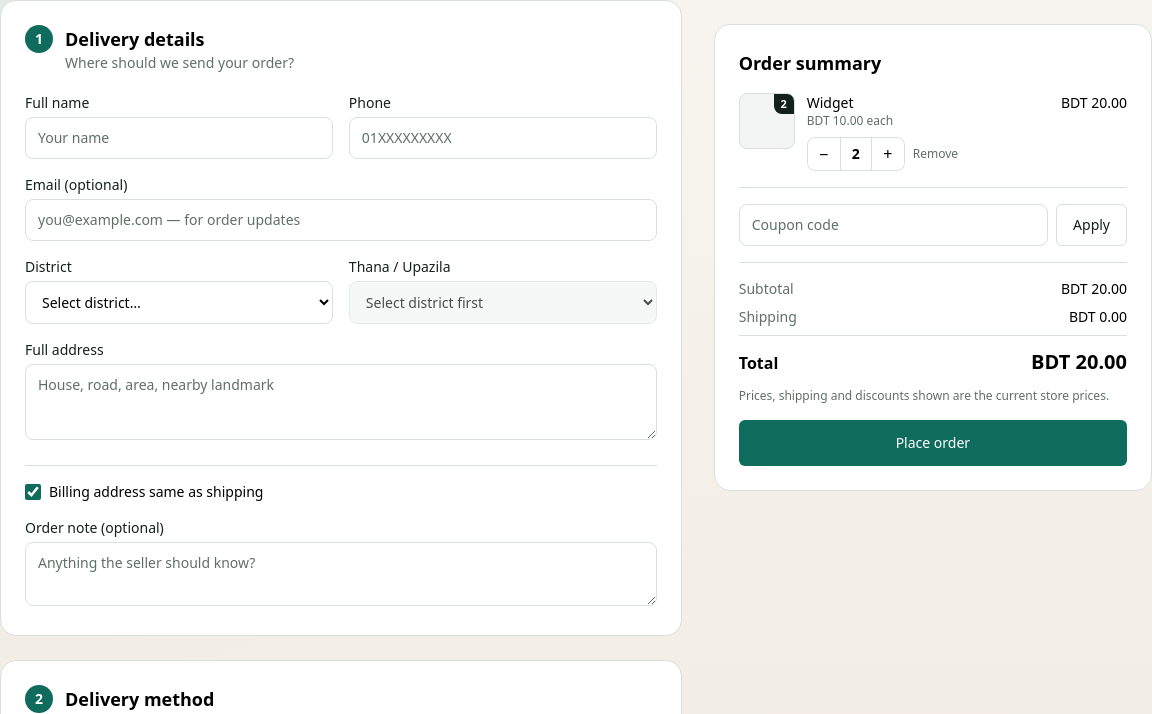
Test case: CheckoutForm › validates contact fields and supports billing same-as-shipping
This screenshot has width=1152, height=714.
Expected: the heading "Order summary" is shown, [739, 51, 881, 75]
Expected: the text "Widget" is shown, [807, 93, 854, 113]
Step 1. Click the button "Place order" → (933, 443), box [739, 420, 1127, 466]
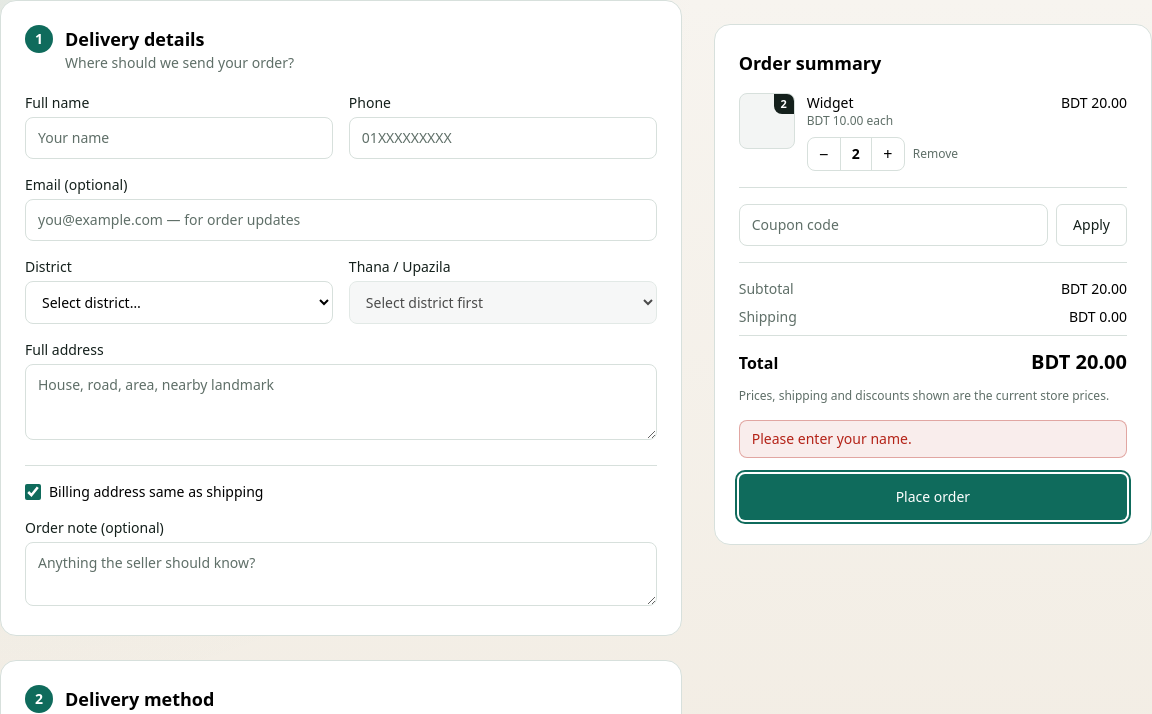
Result: the message shows "enter your name" at [752, 429, 912, 448]
